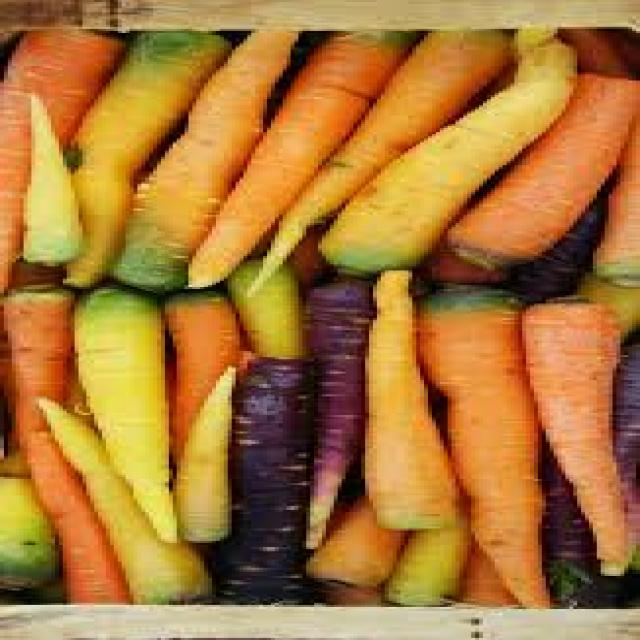Carrot: (529, 304, 640, 582)
